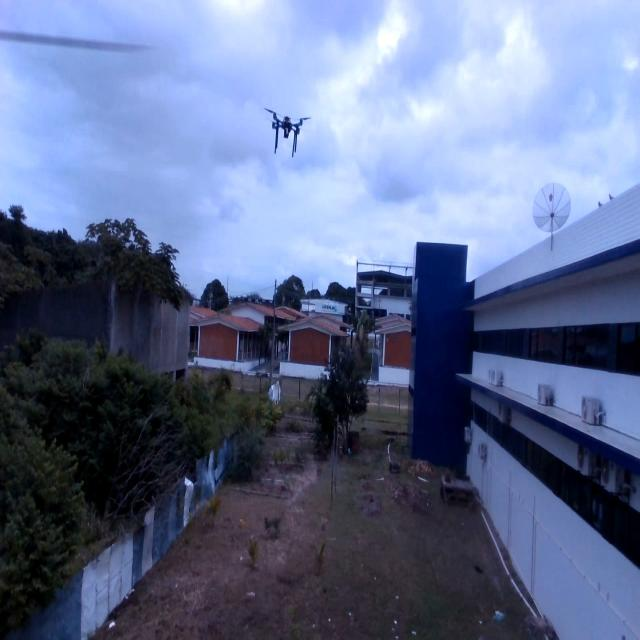-uav-: (259, 90, 316, 176)
